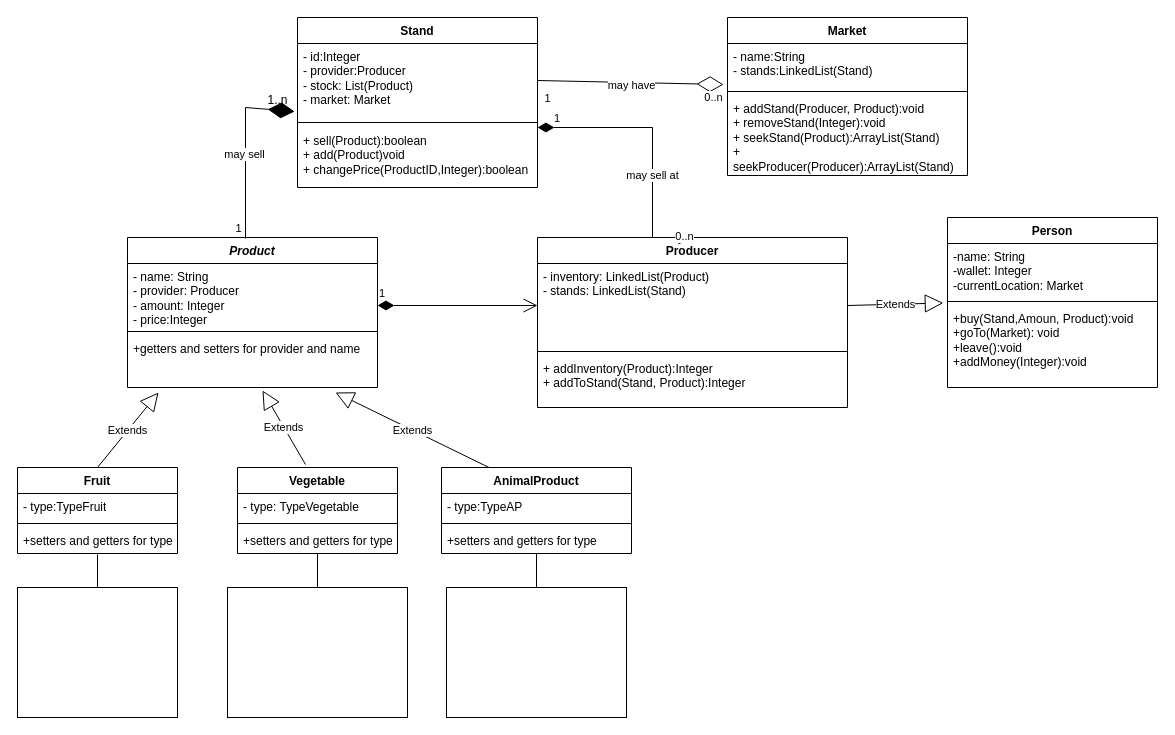
Image size: 1175x735. Some labels were removed from this diagram. Here are the shapes that lost their labels. From the top down, the centre of each, then its label:
the point at 97,652: Enumeration: TypeFruit Berries Cores Citrus Pits Melons Tropical
the point at 317,652: Enumeration: TypeVegetable Root Allium PlantStem Cruciferous LeafyGreen Marrow
the point at 536,652: Enumeration: TypeAP Dairy Meat Honey Fish NonEdible
